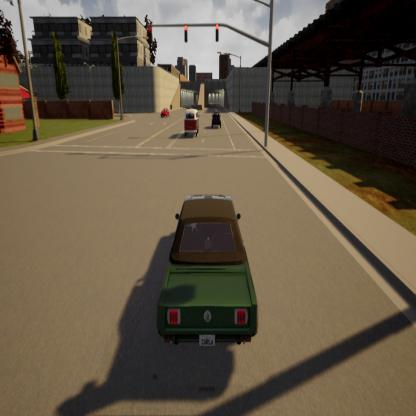Cars: (158, 194, 259, 352), (185, 108, 199, 138), (212, 108, 220, 128), (160, 105, 169, 120)
